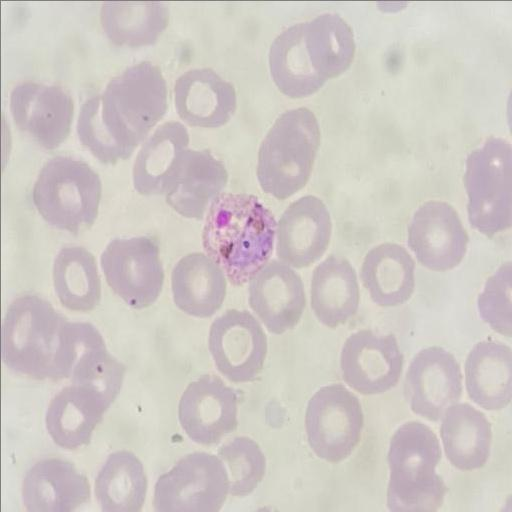Infected: (204, 193, 280, 288)
Uninfected: (268, 12, 353, 96), (1, 293, 71, 379), (257, 109, 321, 199), (100, 62, 168, 146), (32, 157, 101, 233), (385, 429, 444, 511), (465, 137, 512, 233), (303, 385, 363, 460), (100, 236, 162, 307), (131, 121, 190, 195), (339, 329, 404, 396), (10, 79, 74, 147), (207, 311, 266, 384), (153, 454, 228, 511), (177, 376, 239, 444), (407, 201, 467, 270), (273, 196, 330, 268), (164, 150, 226, 215), (174, 67, 239, 128), (405, 347, 461, 417), (249, 261, 304, 329), (45, 386, 105, 448), (360, 243, 417, 308), (74, 349, 127, 418), (22, 457, 87, 512), (58, 323, 113, 387), (308, 258, 359, 327), (170, 253, 225, 315), (51, 246, 102, 312), (462, 341, 510, 409), (439, 403, 489, 467), (94, 452, 147, 511), (76, 95, 123, 161), (218, 436, 263, 494)
